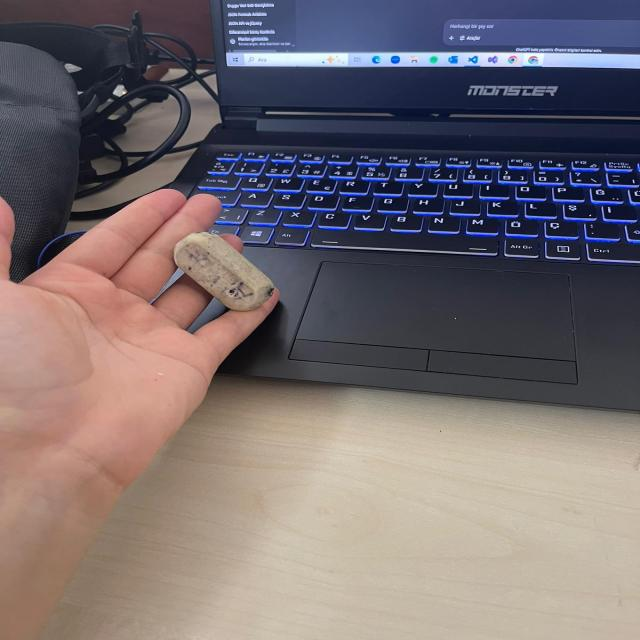eraser: (168, 231, 285, 313)
